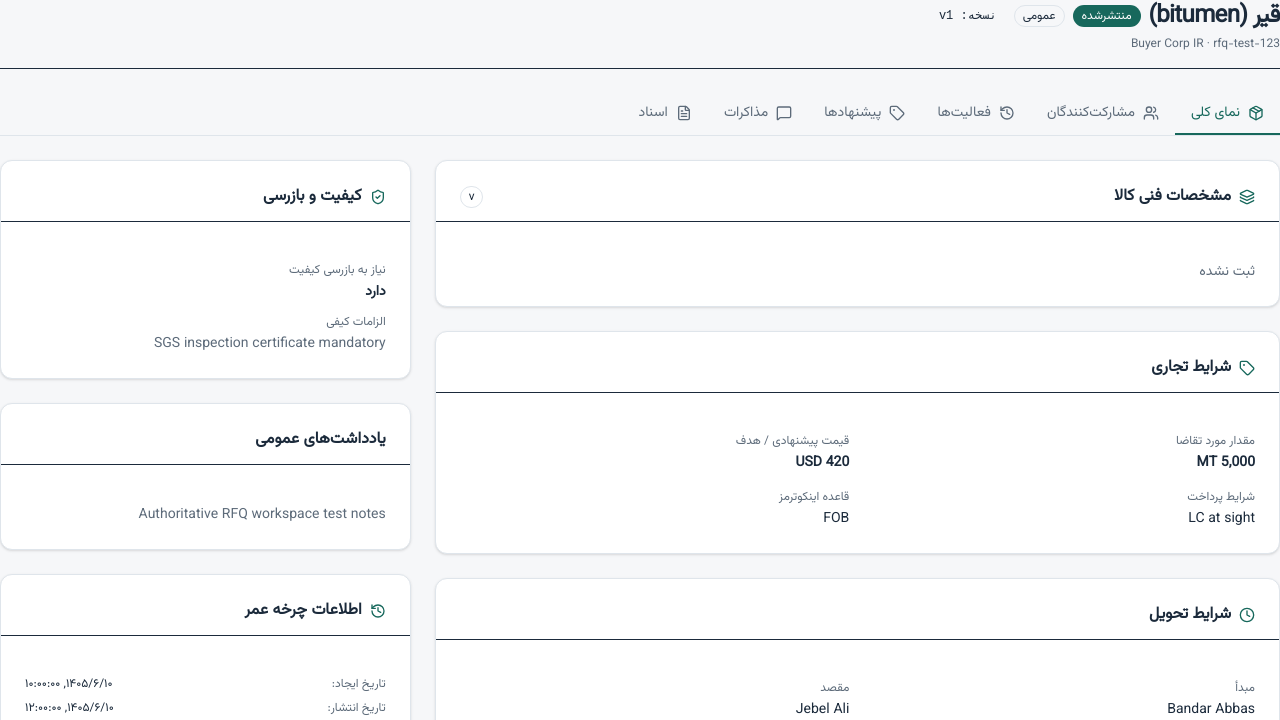
it: T0507 - RFQ Workspace Component Suite › 3. protects counterparty privacy: Supplier sees only own invitation state and cannot see competitors
Step 1. Click the button "مشارکت‌کنندگان" → (1103, 114), box 1031,93 -> 1175,135
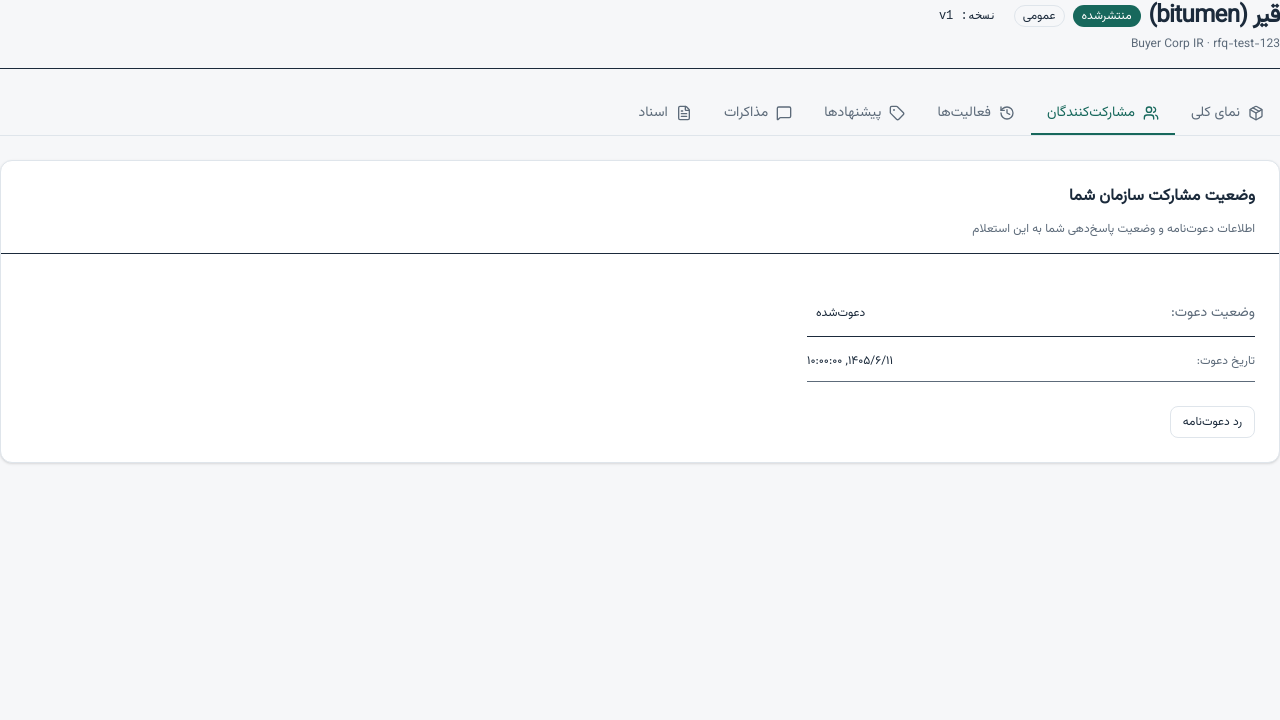
Now the heading "وضعیت مشارکت سازمان شما" is shown, box 1069,184 -> 1255,209
Now the button "رد دعوت‌نامه" is shown, box 1170,406 -> 1255,438
